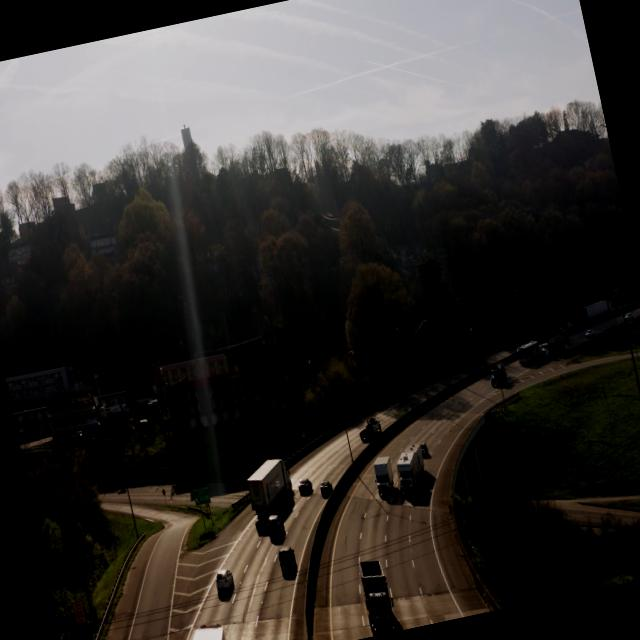Vehicle: (240, 449, 302, 523), (351, 548, 402, 636), (390, 442, 430, 504), (368, 452, 399, 502), (175, 618, 236, 640), (272, 539, 299, 579), (211, 563, 237, 599)
